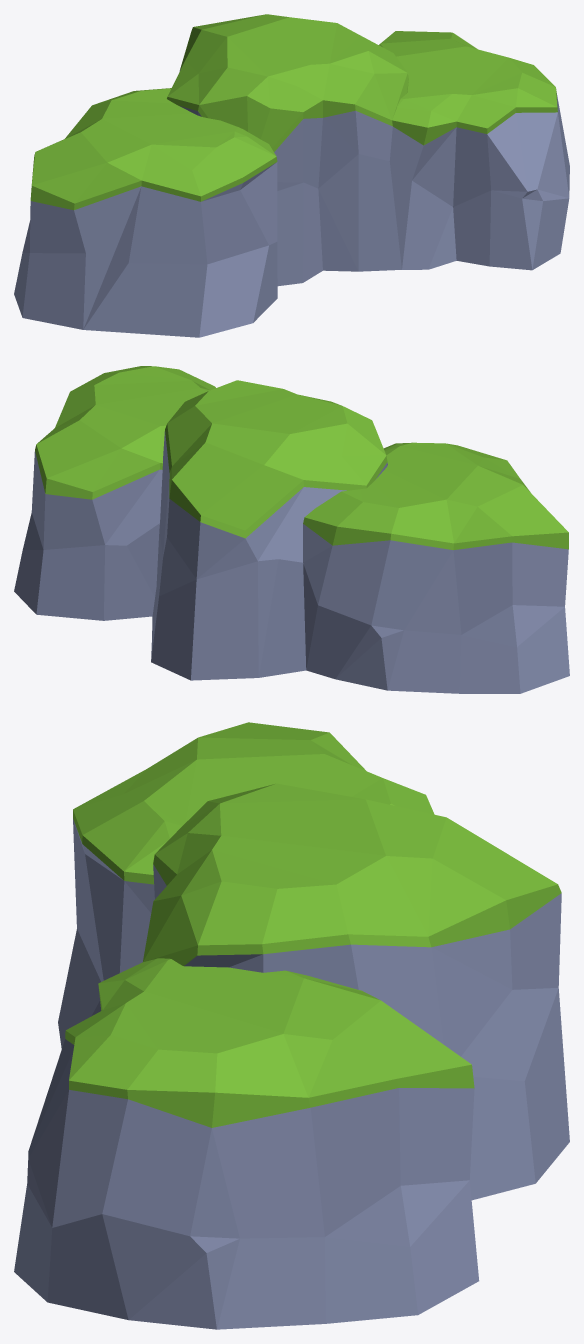
The model's file is Rock_36.fbx.
The picture shows the model from 3 angles, top to bottom: view 1: azimuth 30°, elevation 25°; view 2: azimuth 150°, elevation 25°; view 3: azimuth 270°, elevation 25°; orthographic projection. The views are drawn at different scales.
Parts seen in each view (by area): view 1: Rock_36; view 2: Rock_36; view 3: Rock_36.
Boxes of the visible parts, <box> form: Rock_36: <box>14,14,569,337</box>; Rock_36: <box>14,366,569,693</box>; Rock_36: <box>14,722,569,1329</box>.
Bounding box in the file's own units: 13.72 × 5.22 × 8.13.
